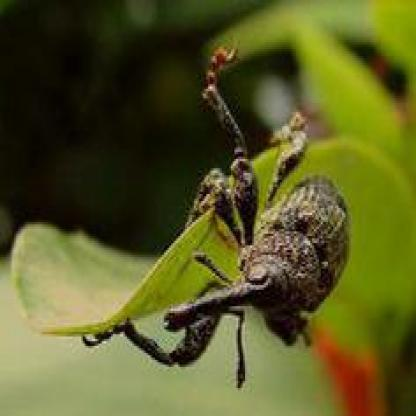rice-bug: (160, 146, 362, 386)
